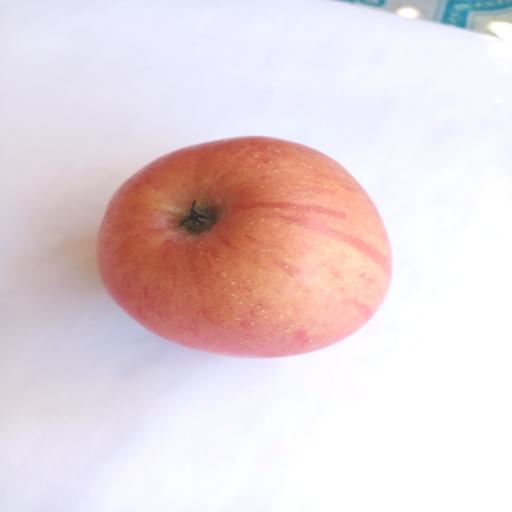apple-ripe: (84, 132, 411, 366)
